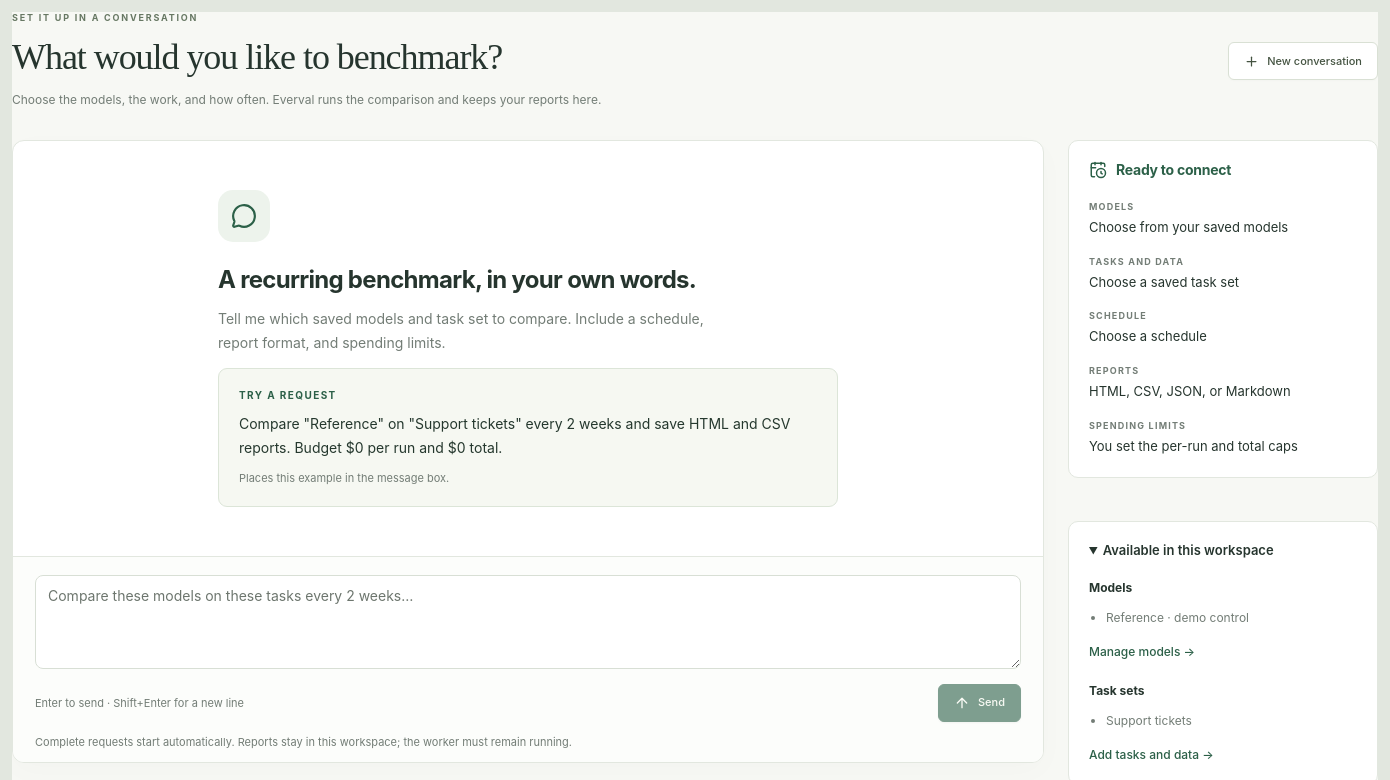
Test case: conversational benchmark setup › submits the actual request and shows the scheduled plan and results link
Step 1. Type "Compare Reference on Support tickets every 2 weeks in HTML." into the text box named "Your benchmark request" → [528, 622], box [35,575,1021,669]
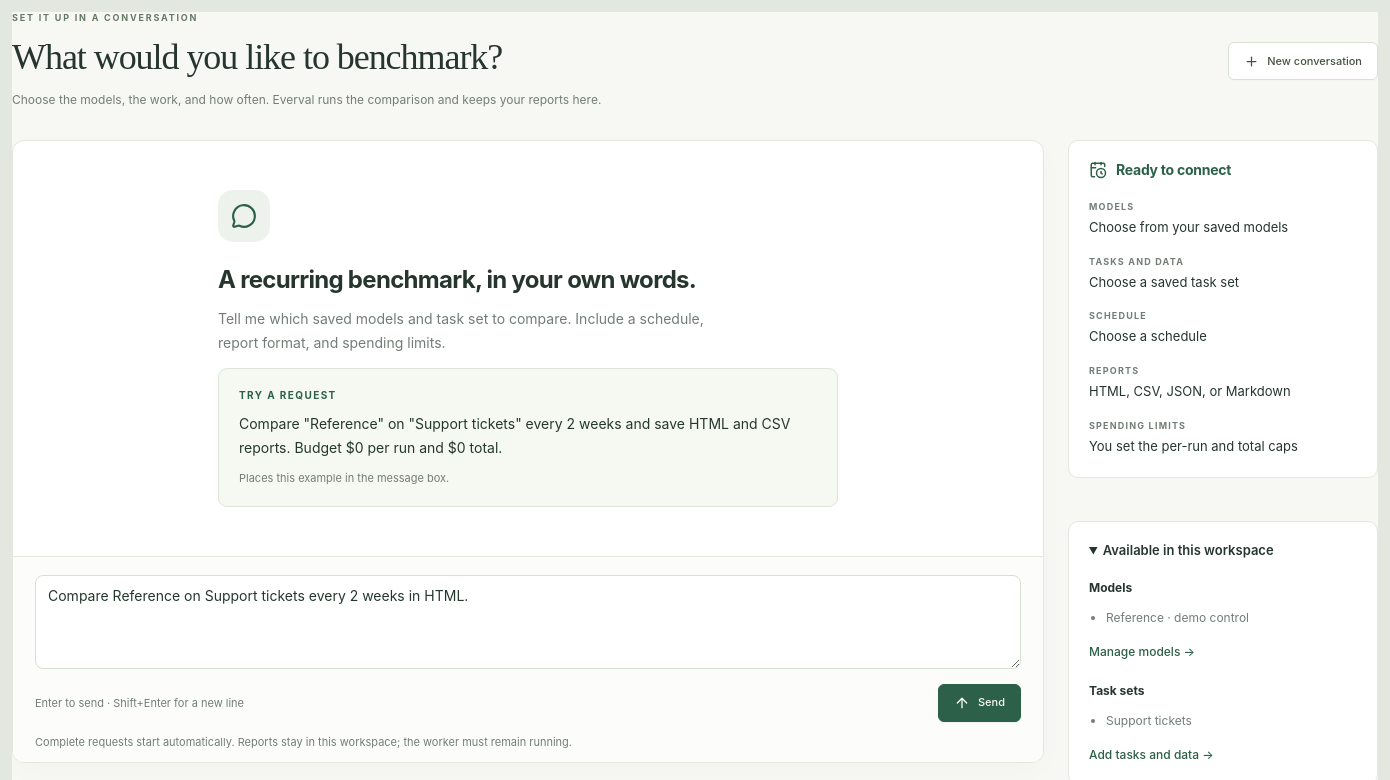
Step 2. Click the button "Send" → [980, 703], box [938,684,1021,722]
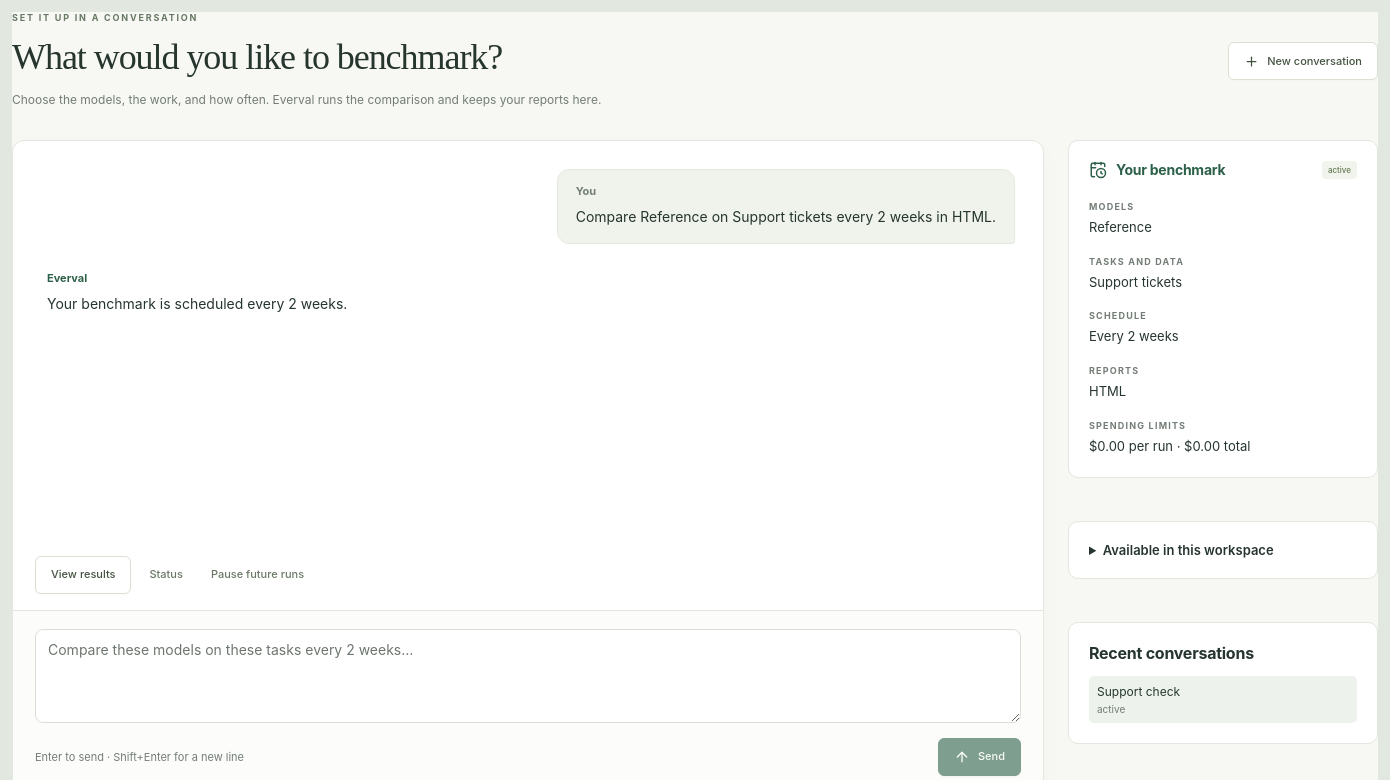
Result: the text "Your benchmark is scheduled every 2 weeks." is shown at [47,295,347,312]
Result: the text "Every 2 weeks" is shown at [1089,328,1179,344]
Result: the text box named "Your benchmark request" is empty at [35,629,1021,723]
